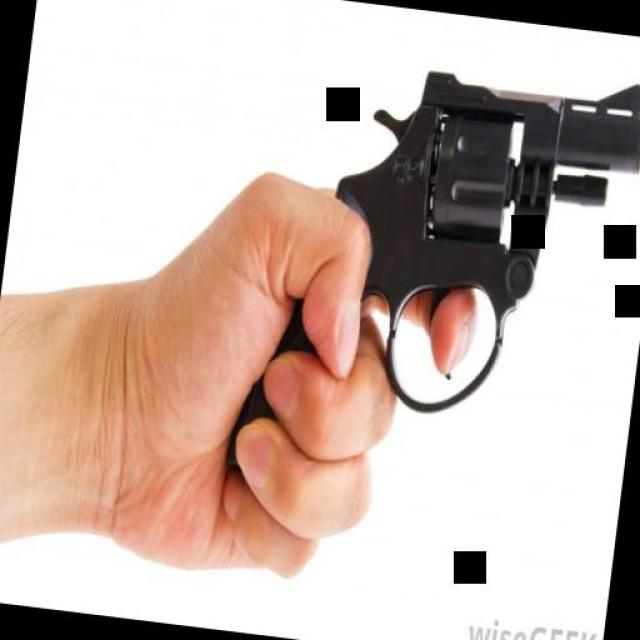gun: (220, 38, 640, 516)
